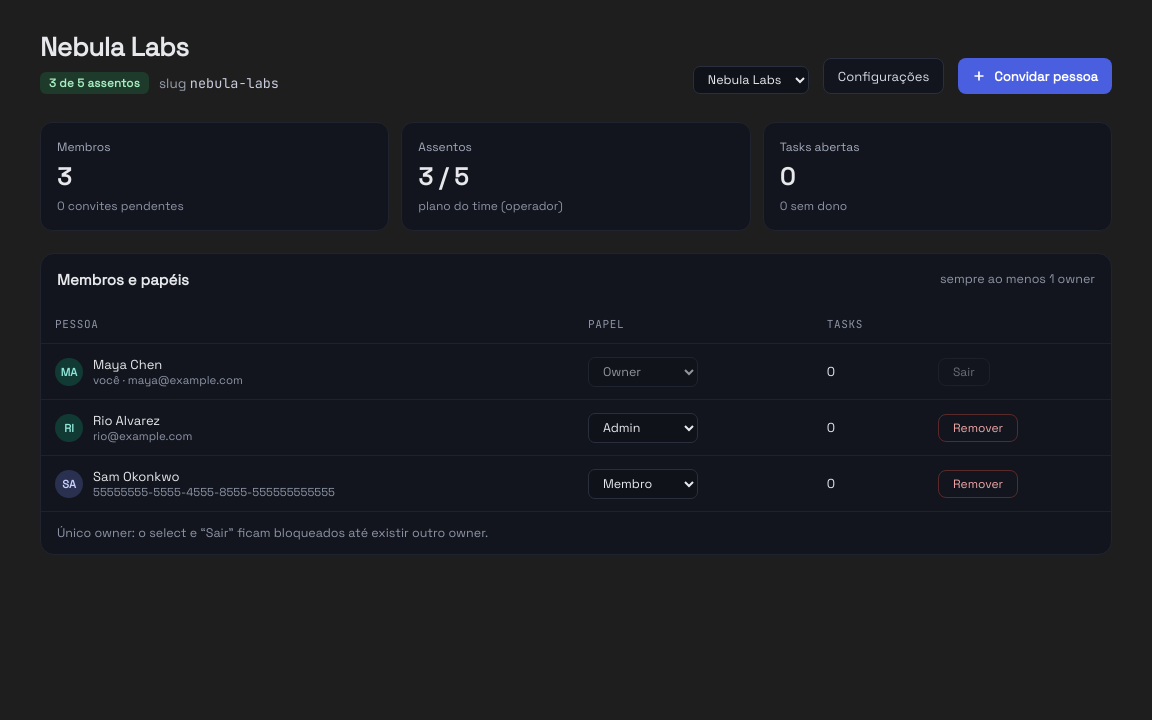
Test: Team settings › delete stays locked until the exact slug, then deletes and goes back to the list
Expected: the heading "Nebula Labs" is shown, [40,30,189,64]
Click the button "Configurações" at (884, 76), box [823,58,944,94]
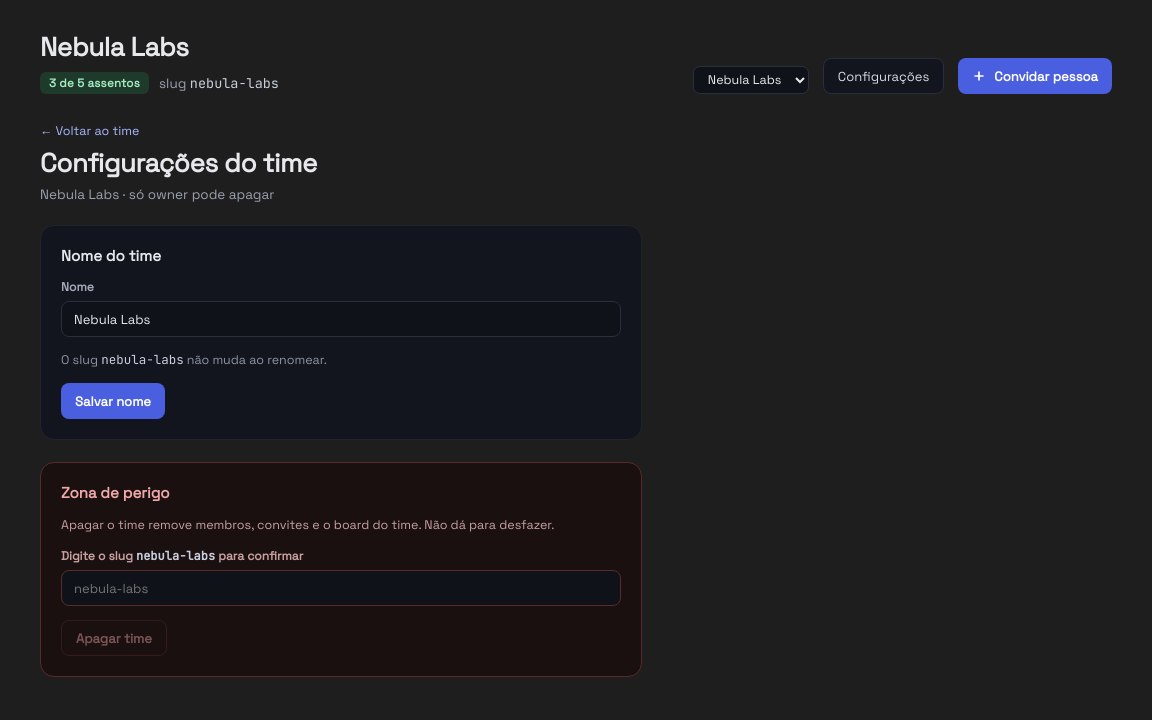
Now the heading "Configurações do time" is shown, box [40,146,317,180]
Type "nebula" into the field labelled "Digite o slug nebula-labs para confirmar" at (341, 588), box [61,570,621,606]
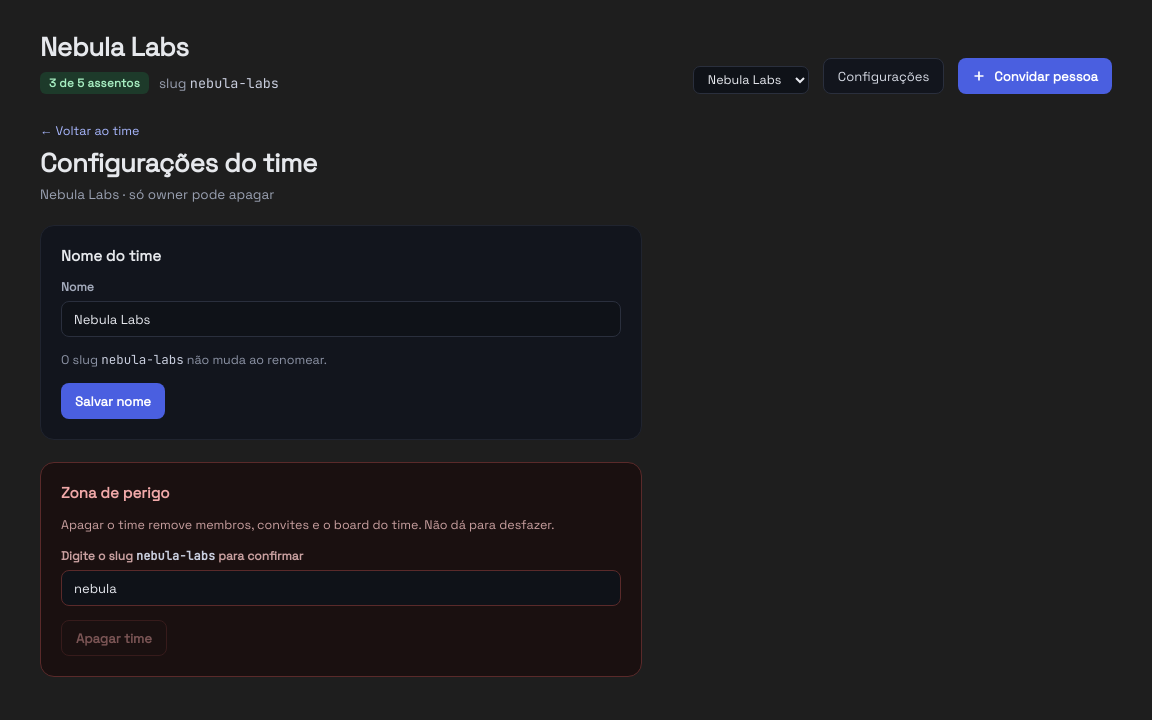
Replace the text in the field labelled "Digite o slug nebula-labs para confirmar" with "nebula-labs" at (341, 588), box [61,570,621,606]
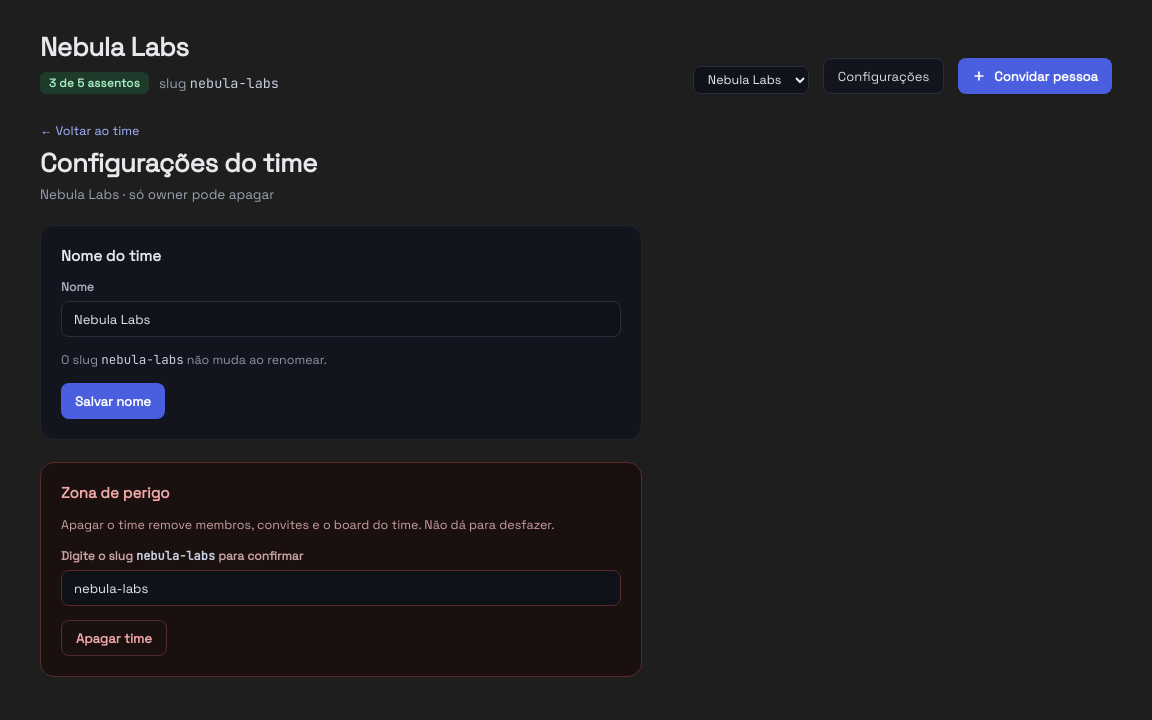
Click the button "Apagar time" at (114, 638), box [61,620,167,656]
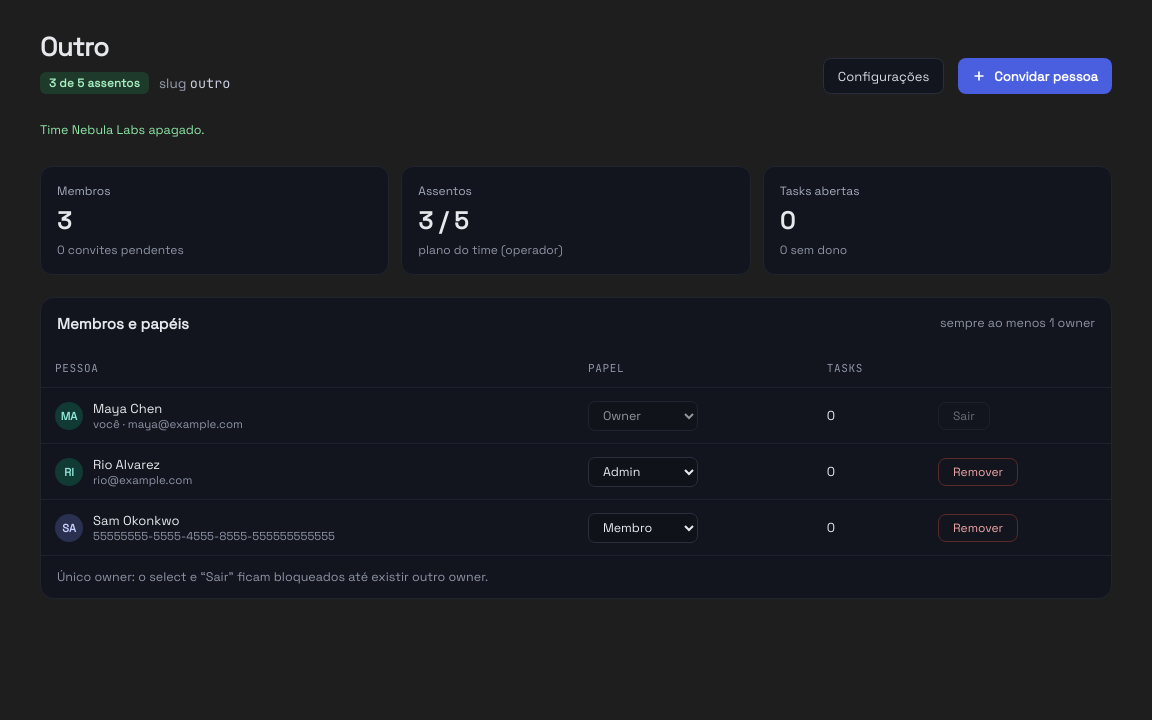
Now the heading "Outro" is shown, box [40,30,109,64]
Now the text "Time Nebula Labs apagado." is shown, box [40,122,204,138]
